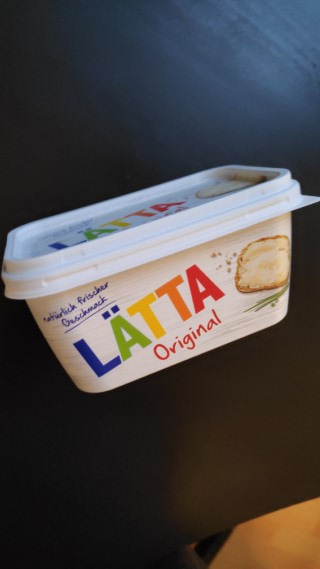laetta: (1, 163, 320, 394)
